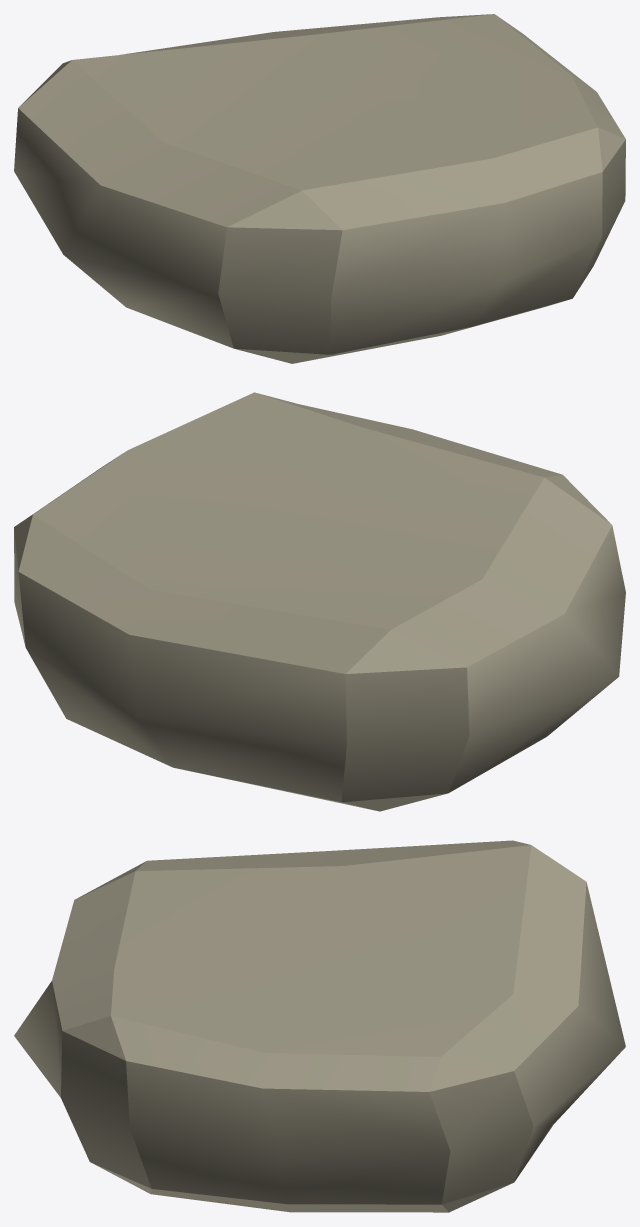
Rendered from FBX_MOON_ROcKS.fbx.
3 views of the same model, one above another, from view 1: azimuth 30°, elevation 25°; view 2: azimuth 150°, elevation 25°; view 3: azimuth 270°, elevation 25° (orthographic). The views are drawn at different scales.
Parts seen in each view (by area): view 1: pCube60; view 2: pCube60; view 3: pCube60.
Boxes of the visible parts, x1,y1,x2,y2 form: pCube60: (14,14,625,363); pCube60: (14,392,625,811); pCube60: (14,840,625,1212).
Bounding box in the file's own units: 156 × 62.82 × 149.
